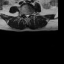CCS_normal: (26, 12, 28, 19)
LFS_severe_stenosis: (30, 12, 31, 17)
LLS_stenosis: (28, 12, 30, 18)
RFS_severe_stenosis: (23, 12, 25, 16)
RLS_stenosis: (25, 12, 26, 18)
